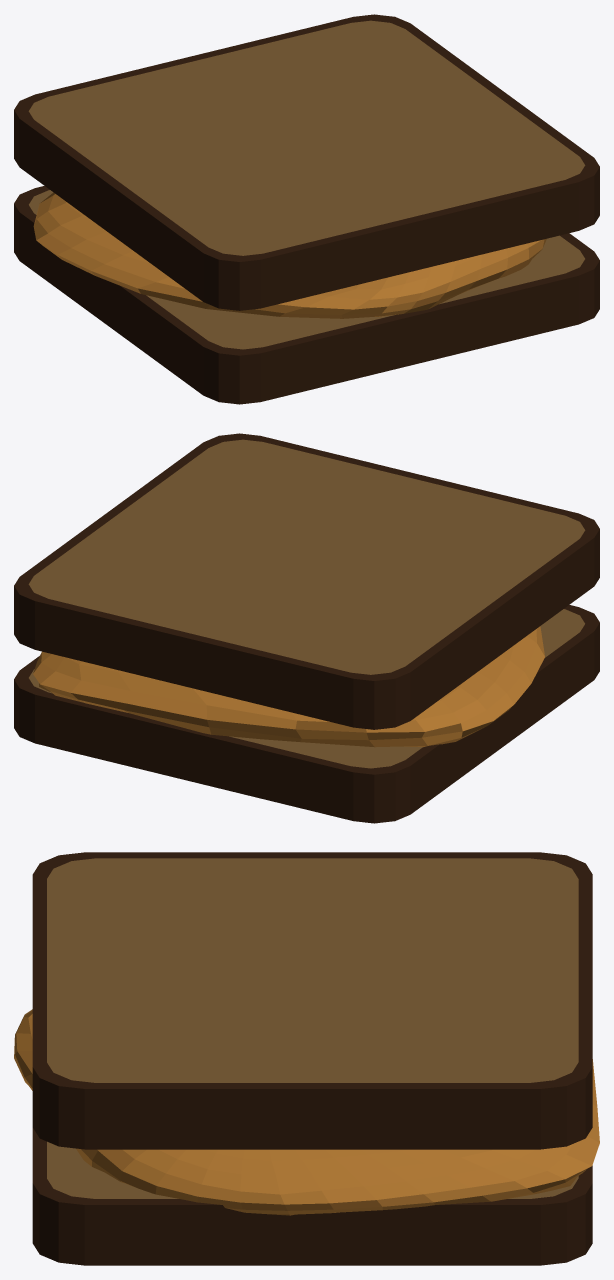
The model's file is chickenSandwich.fbx.
3 views of the same model, one above another, from view 1: azimuth 30°, elevation 25°; view 2: azimuth 150°, elevation 25°; view 3: azimuth 270°, elevation 25° (orthographic). The views are drawn at different scales.
Parts seen in each view (by area): view 1: Chicken Sandwich; view 2: Chicken Sandwich; view 3: Chicken Sandwich.
Part boxes in pixels (left/top/right/bottom): Chicken Sandwich: left=14, top=14, right=599, bottom=404; Chicken Sandwich: left=14, top=433, right=599, bottom=823; Chicken Sandwich: left=14, top=852, right=599, bottom=1265.
Bounding box in the file's own units: 20.93 × 22.16 × 6.96.
